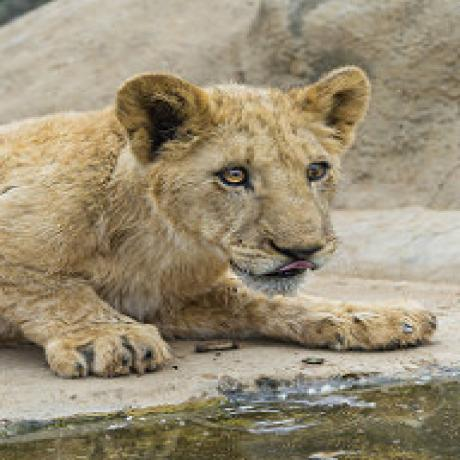Lion: (0, 63, 445, 375)
